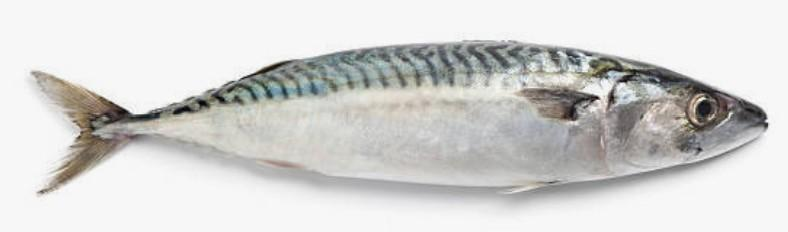fish: (32, 41, 767, 193)
